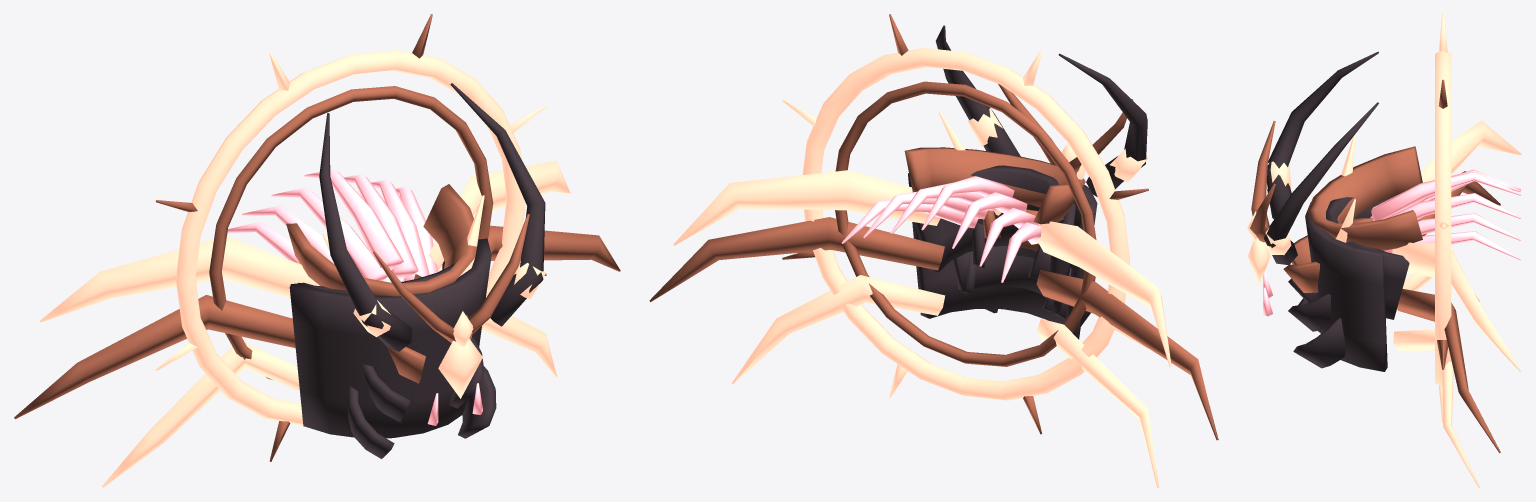
The model's file is terasu_eclipse_oni_kit.fbx.
3 views of the same model, side by side, from view 1: azimuth 30°, elevation 25°; view 2: azimuth 150°, elevation 25°; view 3: azimuth 270°, elevation 25° (orthographic). The views are drawn at different scales.
Parts seen in each view (by area): view 1: OniChestArmor, OniCrownHead, FloatingSodeL, FloatingSodeR; view 2: OniCrownHead, OniChestArmor, FloatingSodeR, FloatingSodeL; view 3: OniChestArmor, OniCrownHead, FloatingSodeR, FloatingSodeL.
Part boxes in pixels (x1=…): OniChestArmor: x1=14, y1=160, x2=620, y2=487; OniCrownHead: x1=156, y1=14, x2=546, y2=461; FloatingSodeL: x1=322, y1=234, x2=425, y2=458; FloatingSodeR: x1=414, y1=195, x2=496, y2=438; OniCrownHead: x1=782, y1=14, x2=1148, y2=434; OniChestArmor: x1=649, y1=147, x2=1218, y2=487; FloatingSodeR: x1=939, y1=111, x2=1001, y2=313; FloatingSodeL: x1=1020, y1=164, x2=1090, y2=326; OniChestArmor: x1=1248, y1=121, x2=1521, y2=487; OniCrownHead: x1=1247, y1=14, x2=1521, y2=422; FloatingSodeR: x1=1283, y1=199, x2=1355, y2=368; FloatingSodeL: x1=1288, y1=134, x2=1372, y2=333.
Bounding box in the file's own units: 1.14 × 0.742 × 0.5294.
